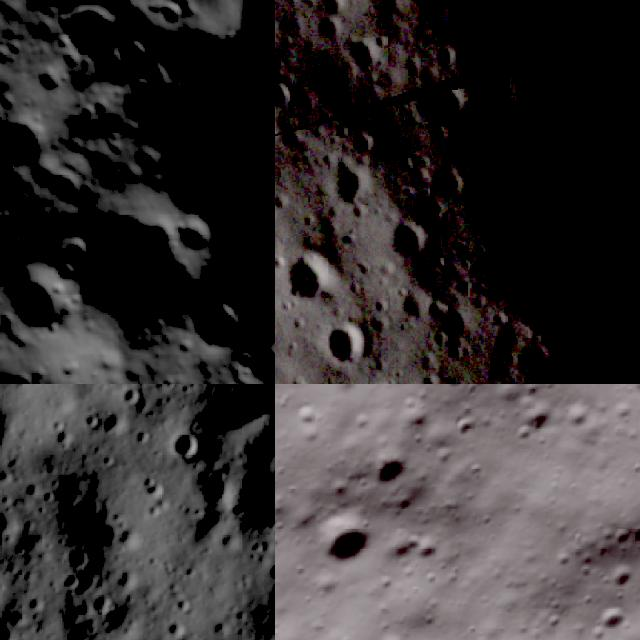crater: (49, 184, 213, 353), (157, 384, 275, 521), (0, 257, 87, 360), (42, 0, 140, 80), (299, 495, 386, 583), (208, 463, 275, 559), (178, 287, 259, 365), (346, 441, 419, 513), (22, 157, 92, 226), (166, 201, 232, 269), (0, 105, 57, 181), (184, 461, 247, 524), (276, 251, 336, 310), (106, 28, 162, 86), (155, 420, 210, 478), (414, 84, 472, 136), (320, 164, 374, 218), (382, 225, 441, 270), (320, 322, 372, 371), (50, 538, 100, 588), (246, 548, 275, 631), (102, 560, 148, 606), (39, 417, 85, 463), (0, 195, 25, 270), (617, 387, 640, 466), (427, 168, 469, 210), (86, 518, 127, 560), (82, 588, 123, 629), (108, 384, 153, 420), (344, 38, 382, 78), (148, 0, 191, 33), (152, 608, 195, 640), (54, 564, 90, 600), (316, 17, 346, 53), (275, 75, 299, 118), (319, 0, 354, 21), (271, 294, 275, 357)
